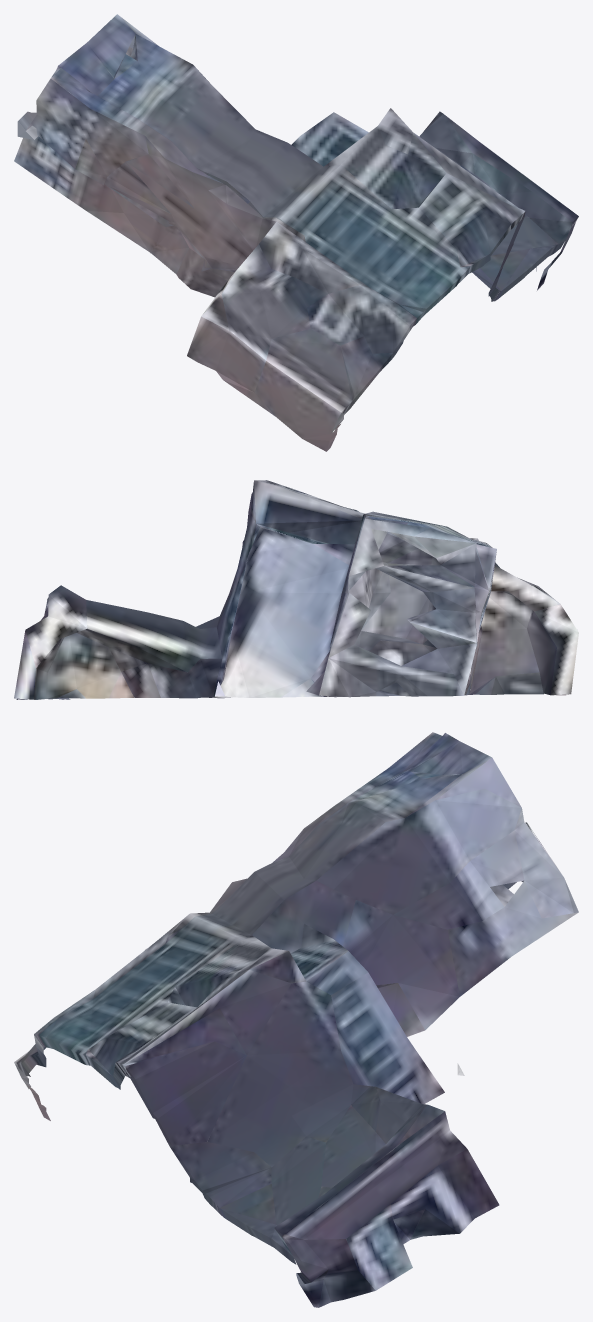
The model's file is UlRPVEYubm9kZWRhdGEucGxhbmV0b2lkPWVhcnRoLG5vZGVfZGF0YV9lcG9jaD05MTYscGF0aD0zMTQzNDE1MjYwNzM2MjcxNDc1NyxjYWNoZV92ZXJzaW9uPTY.glb.
3 renders of one model, top to bottom at view 1: azimuth 30°, elevation 25°; view 2: azimuth 150°, elevation 25°; view 3: azimuth 270°, elevation 25°, orthographic. The views are drawn at different scales.
Size of the model in its own units: 21.72 by 13.41 by 19.35.
Materials: 1 (1 with a texture image).
